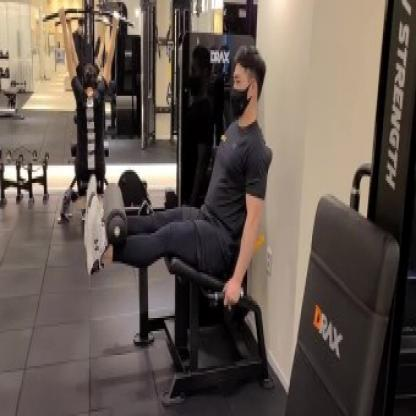leg extension: (73, 25, 279, 410)
